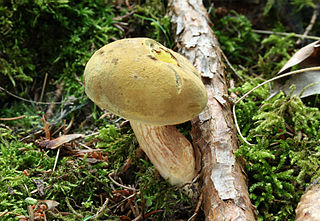boletus_poisinous: (63, 21, 229, 137)
